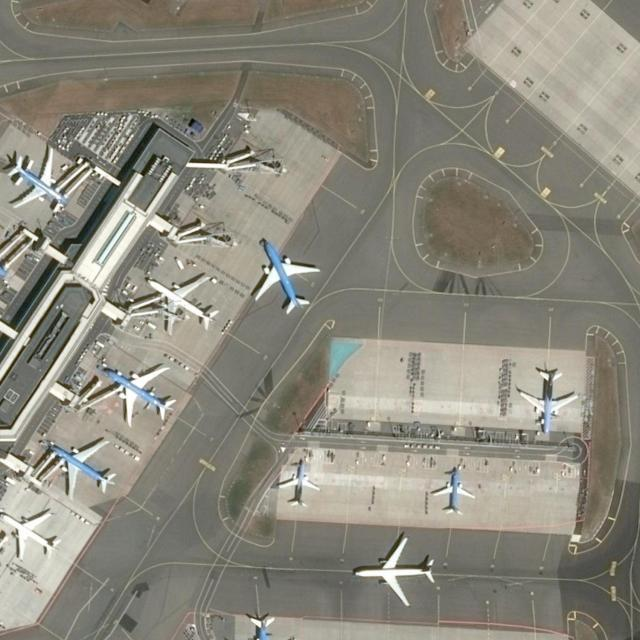Aircraft: (352, 534, 438, 605), (254, 241, 320, 315), (101, 365, 176, 427), (143, 274, 217, 336), (516, 367, 578, 435), (47, 439, 117, 497), (7, 145, 67, 209), (0, 510, 63, 559), (276, 456, 324, 509), (430, 467, 476, 514), (224, 613, 301, 640)
